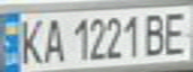1: (66, 14, 90, 62), (121, 11, 145, 58)
2: (103, 12, 127, 61), (87, 14, 109, 62)
A: (39, 15, 66, 64)
B: (142, 10, 172, 56)
E: (160, 7, 193, 56)
K: (15, 15, 45, 65)
